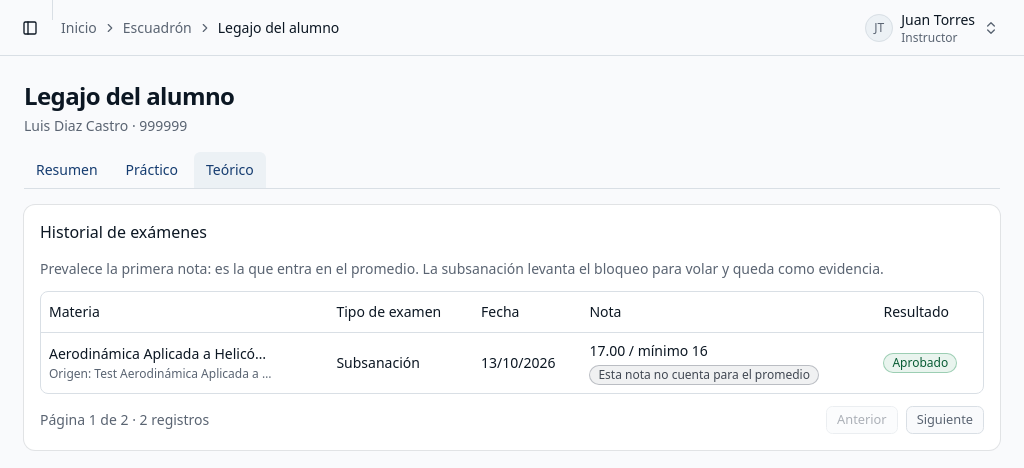
Legajo: historial teórico › CA-LEG-11 el panel pagina y declara cuántos exámenes hay en total
This screenshot has width=1024, height=468.
Expected: the heading "Legajo del alumno" is shown, [24, 80, 234, 112]
Expected: the text "Página 1 de 2 · 2 registros" is shown, [40, 410, 209, 430]
Click the button "Siguiente": (945, 420) [906, 406, 984, 434]
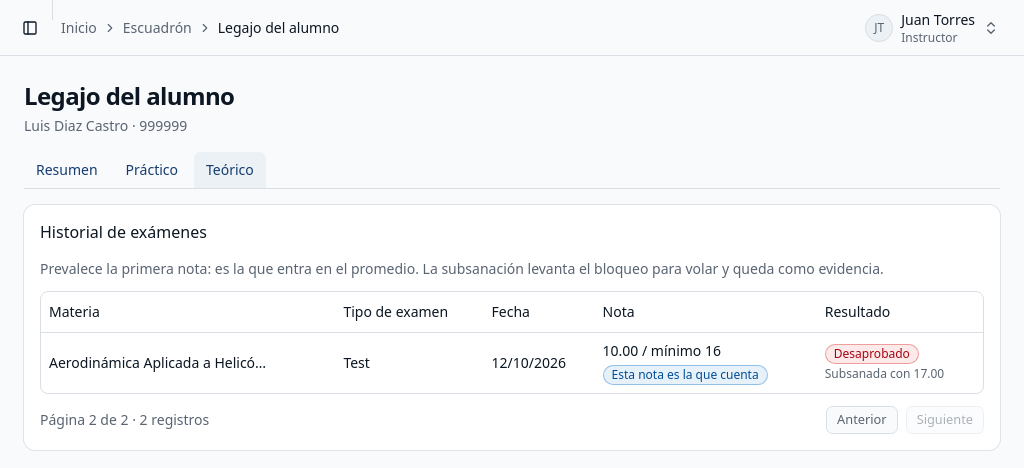
Result: the text "Página 2 de 2 · 2 registros" is shown at [40, 410, 209, 430]
Result: the text "10.00 / mínimo 16" is shown at [602, 340, 721, 360]
